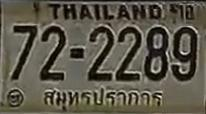2: (39, 25, 65, 80), (88, 26, 114, 80), (116, 26, 140, 81)
7: (12, 24, 36, 79)
8: (144, 26, 168, 80)
9: (172, 26, 196, 80)
SPK: (40, 84, 165, 112)
